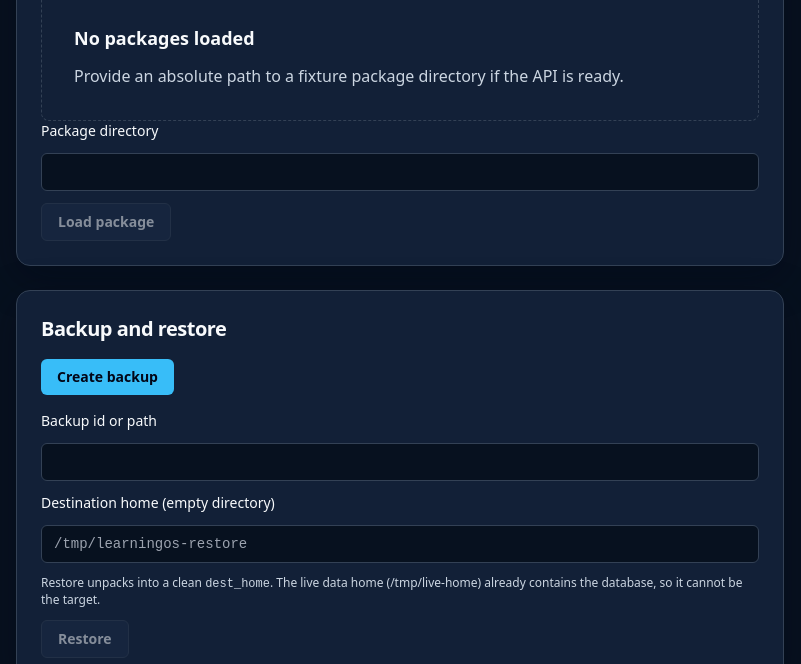
Settings restore › requires dest_home and includes it in the restore request
(page scrolled)
Check: the button "Restore" is disabled, box [41,620,129,658]
In the field labelled "Backup id or path": (400, 462) [41,443,759,481], type "/tmp/backup.tar.gz"
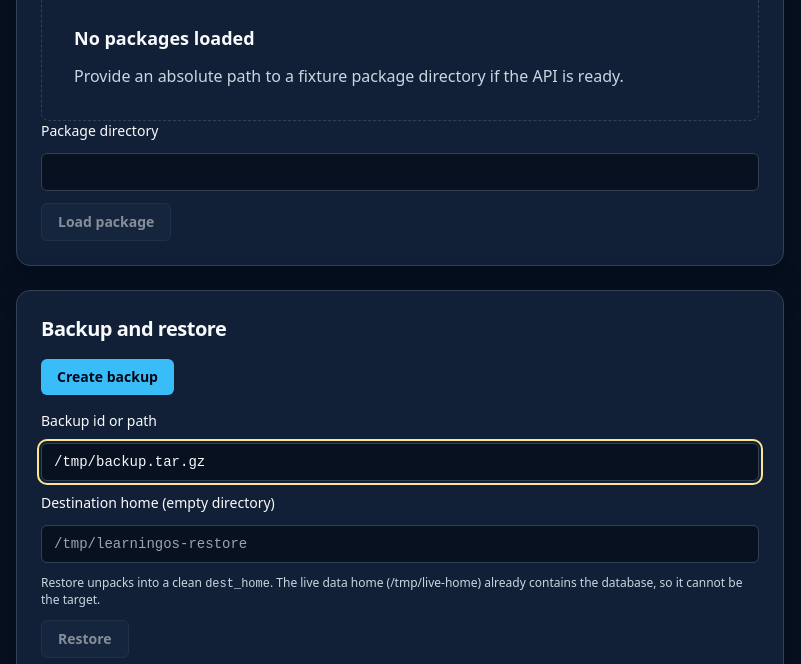
Check: the button "Restore" is disabled, box [41,620,129,658]
In the field labelled "Destination home (empty directory)": (400, 544) [41,525,759,563], type "/tmp/clean-home"
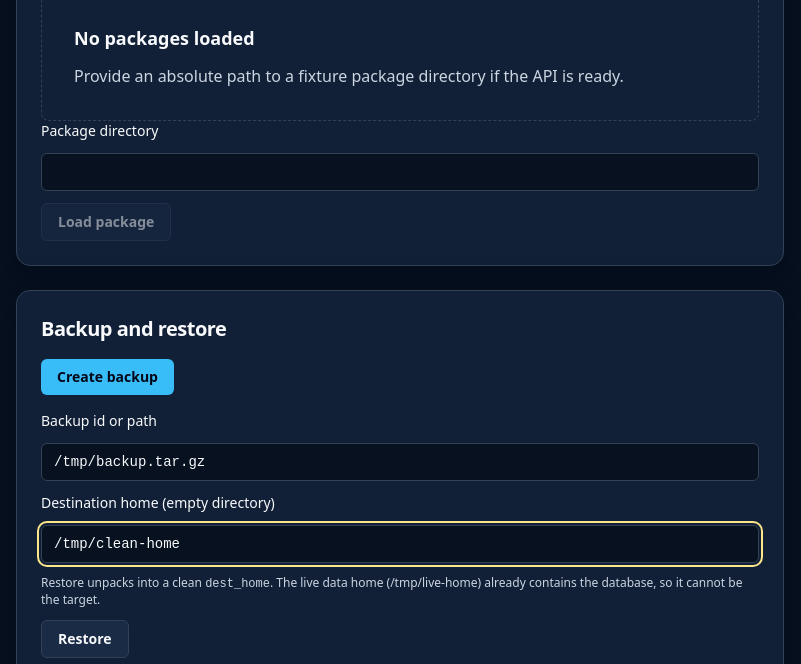
Check: the button "Restore" is enabled
Click the button "Restore": (85, 639) [41,620,129,658]
(page scrolled)
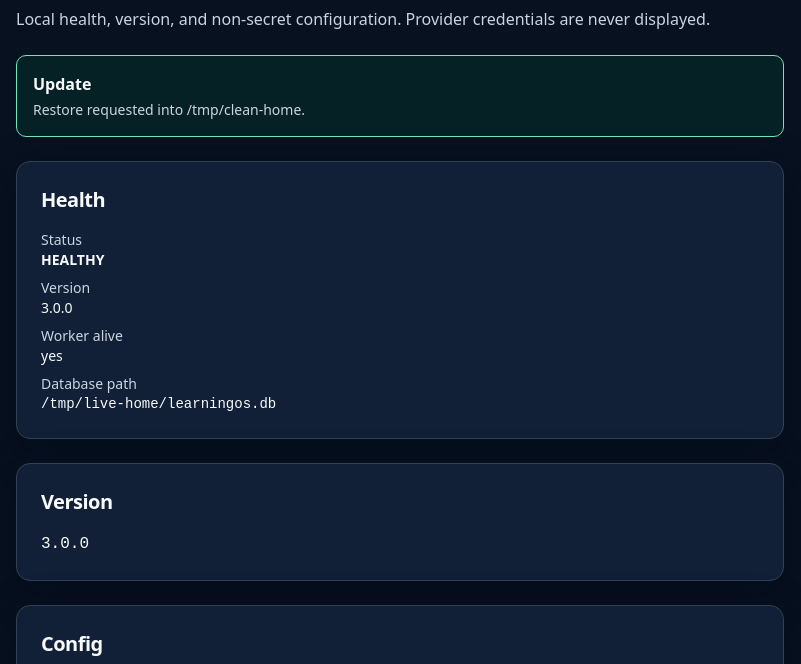
Check: the text "Restore requested into /tmp/clean-home." is shown, box [33,100,305,119]
